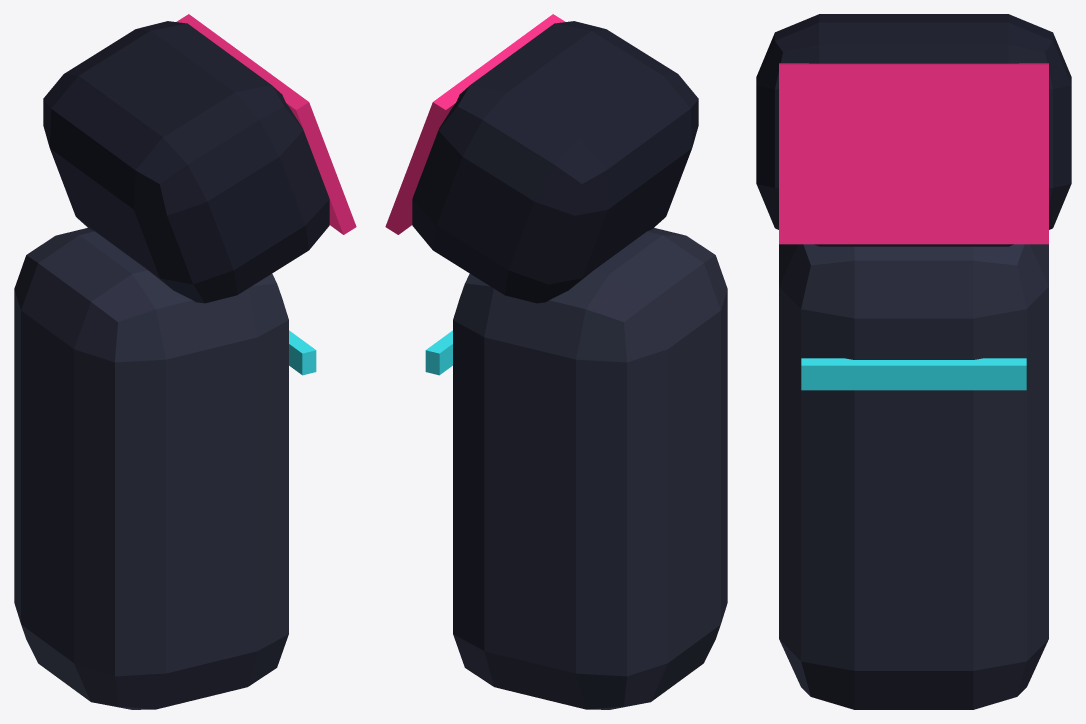
File: terminal.glb
The picture shows the model from 3 angles, left to right: view 1: azimuth 30°, elevation 25°; view 2: azimuth 150°, elevation 25°; view 3: azimuth 270°, elevation 25°; orthographic projection. The views are drawn at different scales.
Visible parts, largest first — view 1: p_rbox.173, p_rbox.174, screen, p_box.920; view 2: p_rbox.173, p_rbox.174, screen, p_box.920; view 3: p_rbox.173, screen, p_rbox.174, p_box.920.
Part boxes in pixels (left/top/right/bottom): p_rbox.173: left=14, top=228, right=288, bottom=709; p_rbox.174: left=43, top=21, right=329, bottom=303; screen: left=176, top=14, right=356, bottom=234; p_box.920: left=289, top=330, right=316, bottom=375; p_rbox.173: left=453, top=228, right=727, bottom=709; p_rbox.174: left=412, top=21, right=698, bottom=303; screen: left=385, top=14, right=565, bottom=234; p_box.920: left=425, top=330, right=452, bottom=375; p_rbox.173: left=779, top=244, right=1048, bottom=709; screen: left=779, top=63, right=1048, bottom=244; p_rbox.174: left=756, top=14, right=1071, bottom=246; p_box.920: left=801, top=358, right=1026, bottom=390.
Size of the model in its own units: 0.7172 by 1.67 by 0.7.
